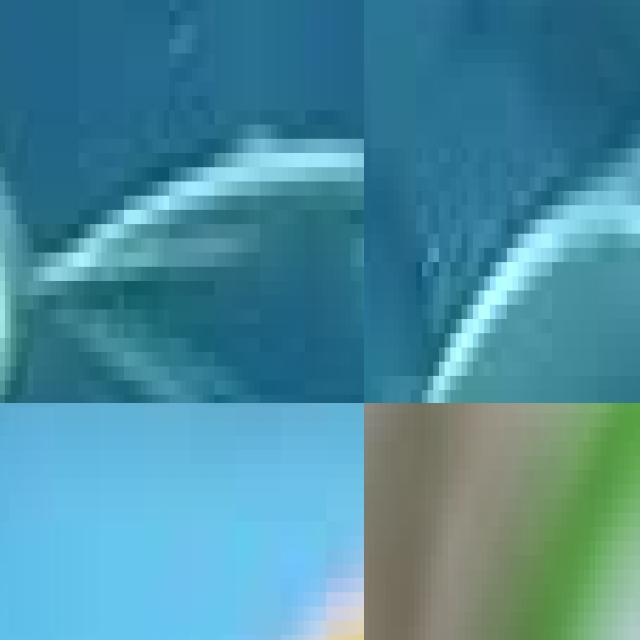fish: (0, 0, 364, 403), (364, 0, 640, 403)
